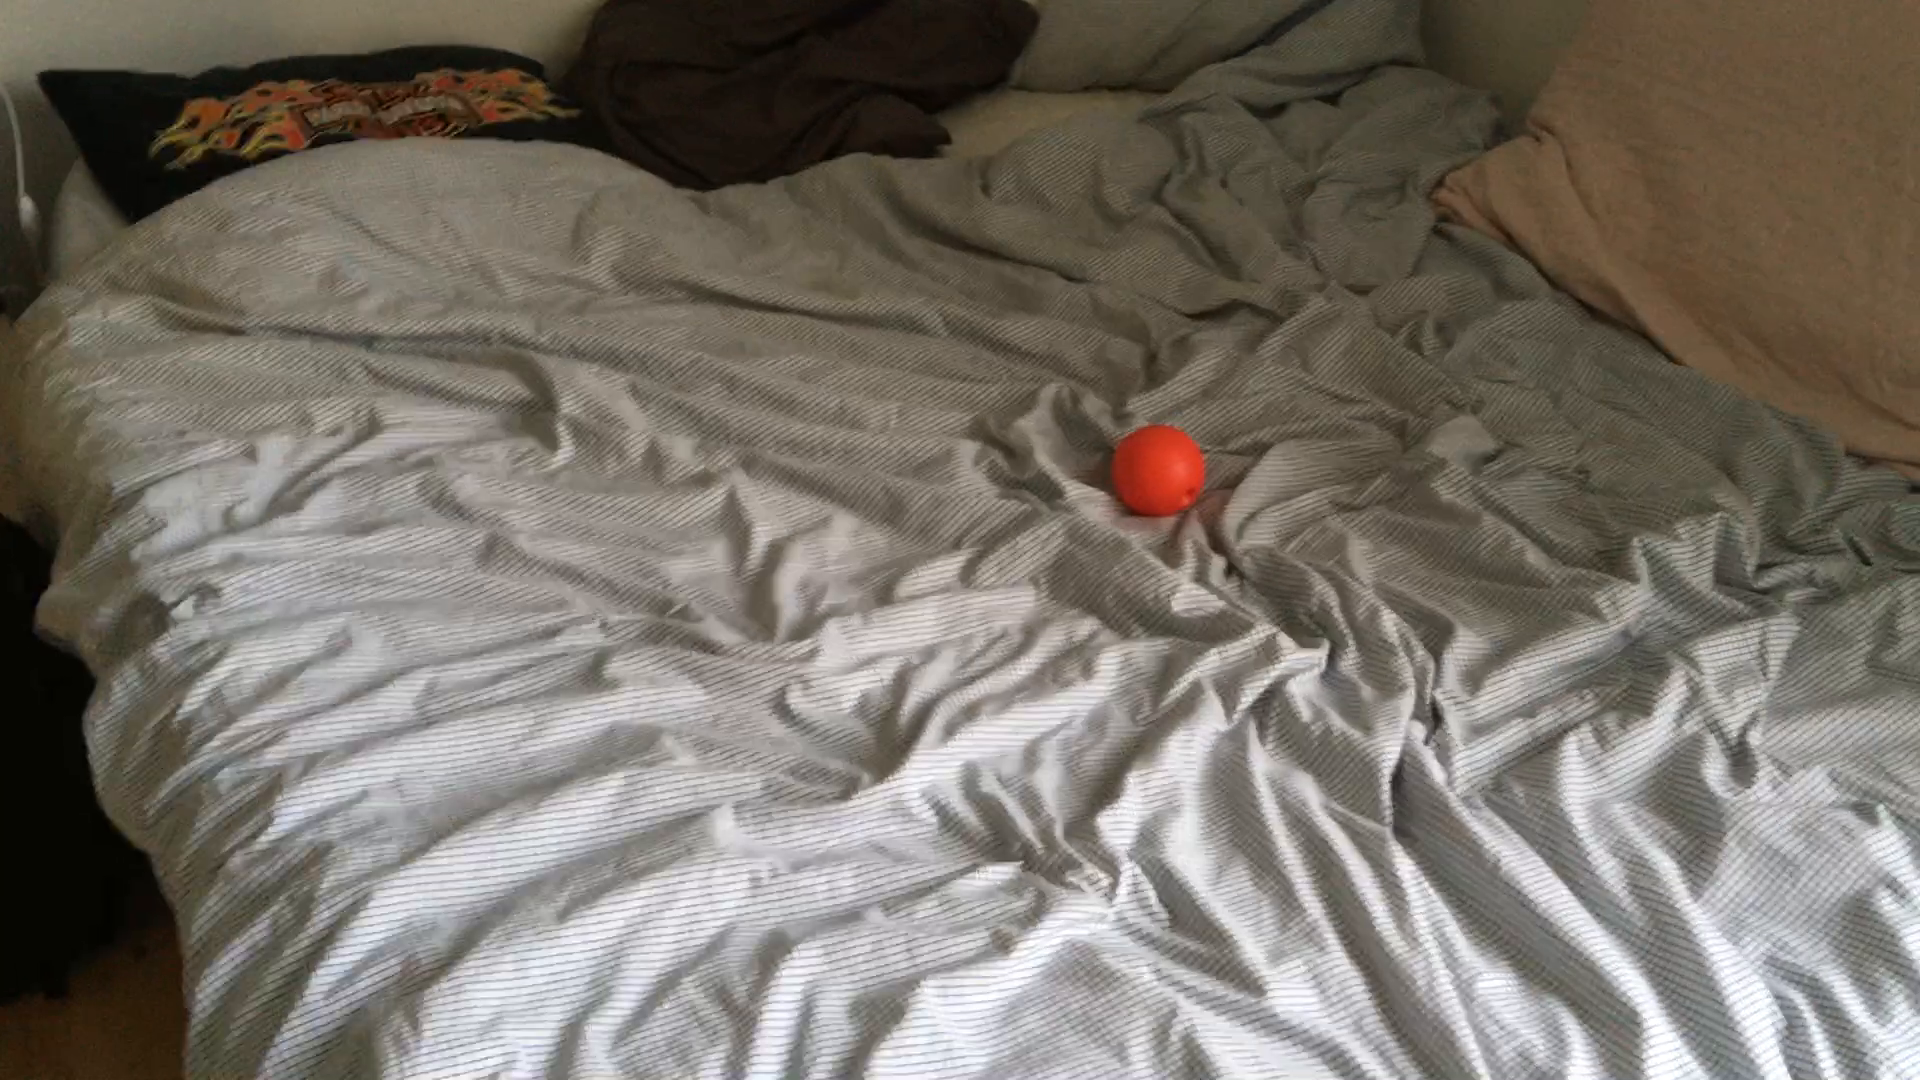Ball: (1116, 425, 1209, 518)
